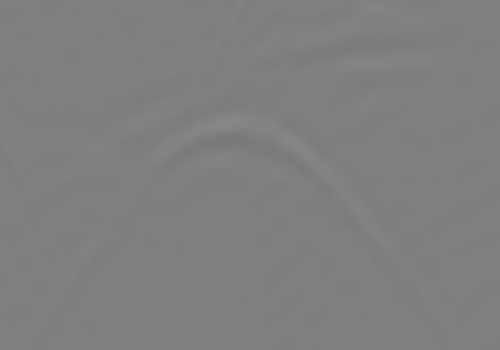hyperbola: (65, 116, 438, 337)
